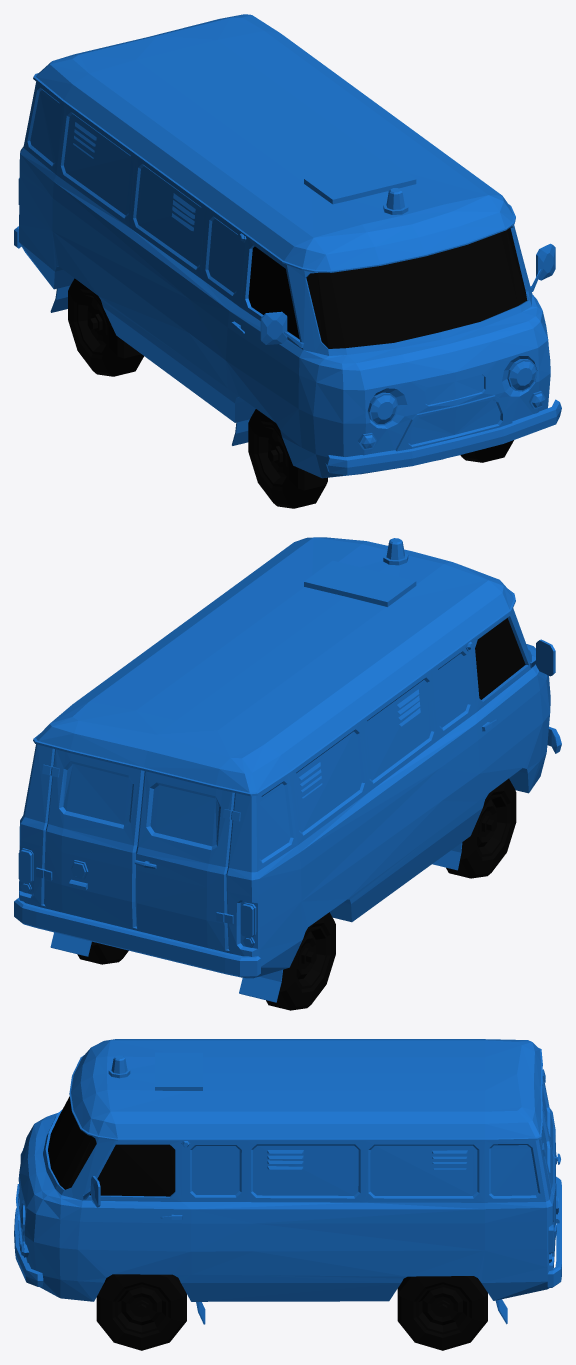
File: SM_minibus.fbx
The picture shows the model from 3 angles, top to bottom: view 1: azimuth 30°, elevation 25°; view 2: azimuth 150°, elevation 25°; view 3: azimuth 270°, elevation 25°; orthographic projection. The views are drawn at different scales.
Visible parts, largest first — view 1: Cylinder_20, Cylinder_17, Cylinder_18; view 2: Cylinder_20, Cylinder_18, Cylinder_17; view 3: Cylinder_20, Cylinder_14, Cylinder_18.
Part boxes in pixels (x1,y1,x2,y2): Cylinder_20: (14,14,561,478); Cylinder_17: (248,409,327,508); Cylinder_18: (68,278,143,376); Cylinder_20: (14,537,561,1002); Cylinder_18: (77,912,335,1010); Cylinder_17: (446,778,516,878); Cylinder_20: (14,1039,561,1324); Cylinder_14: (96,1274,186,1350); Cylinder_18: (397,1276,487,1350).
Bounding box in the file's own units: 232 × 226 × 448.
